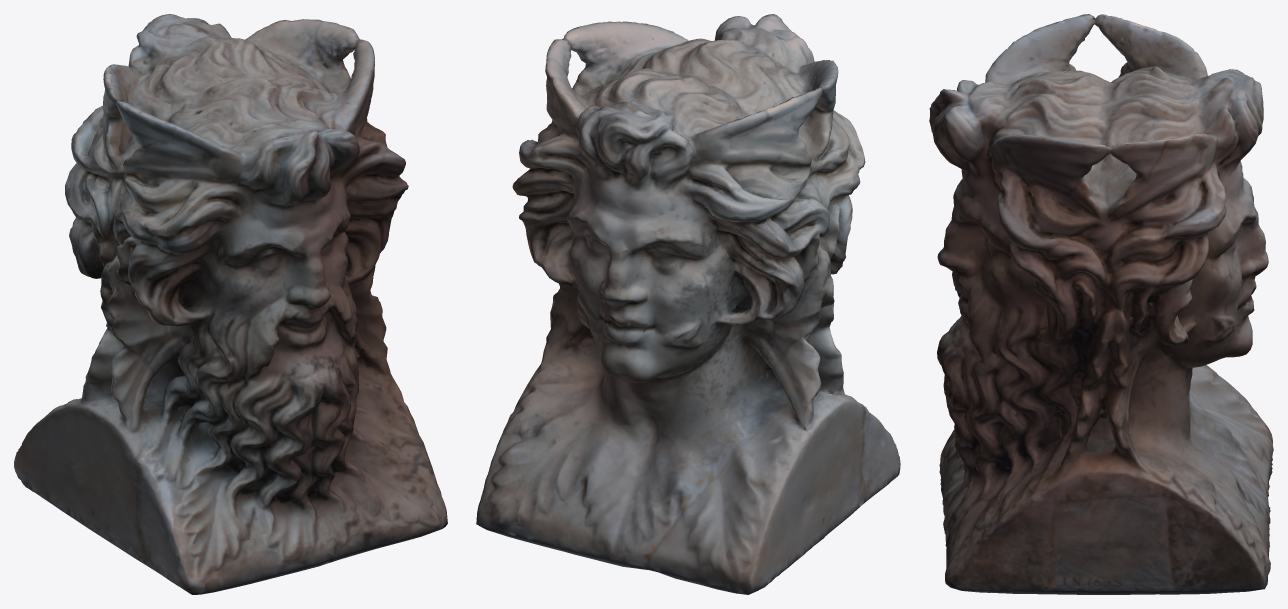
The model's file is janus_lod.gltf.
3 views of the same model, side by side, from view 1: azimuth 30°, elevation 25°; view 2: azimuth 150°, elevation 25°; view 3: azimuth 270°, elevation 25° (orthographic).
Parts seen in each view (by area): view 1: model_0; view 2: model_0; view 3: model_0.
Part boxes in pixels (bbox=[...]): model_0: bbox=[14, 14, 447, 594]; model_0: bbox=[476, 14, 900, 594]; model_0: bbox=[929, 14, 1273, 594].
Size of the model in its own units: 5.72 by 8.67 by 5.94.
Materials: 1 (1 with a texture image).
